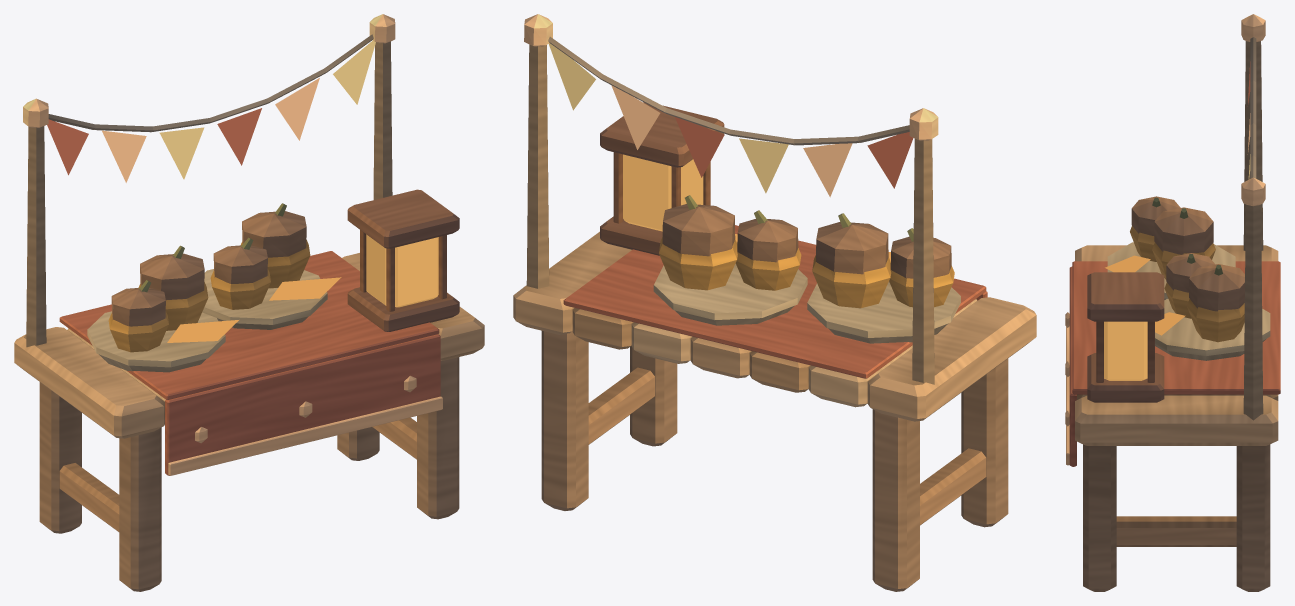
The model's file is season_table_autumn.glb.
3 views of the same model, side by side, from view 1: azimuth 30°, elevation 25°; view 2: azimuth 150°, elevation 25°; view 3: azimuth 270°, elevation 25° (orthographic). The views are drawn at different scales.
Visible parts, largest first — view 1: Dorftisch · autumn; view 2: Dorftisch · autumn; view 3: Dorftisch · autumn.
Boxes of the visible parts, x1,y1,x2,y2 form: Dorftisch · autumn: (14, 14, 484, 591); Dorftisch · autumn: (513, 14, 1036, 591); Dorftisch · autumn: (1065, 14, 1280, 591).
Bounding box in the file's own units: 1.67 × 1.88 × 0.8689.
3 materials, 2 textured.
